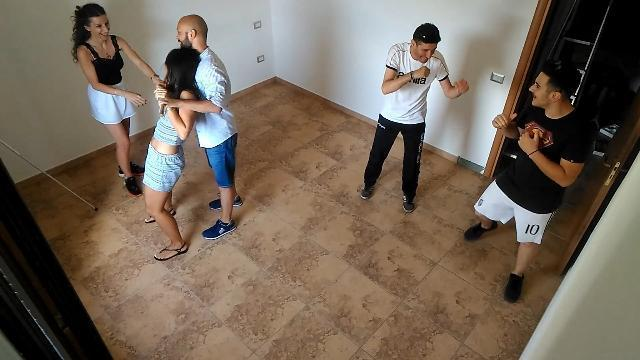non-violence: (68, 1, 160, 192)
violence: (464, 60, 598, 304), (139, 14, 243, 265), (359, 22, 468, 212)
